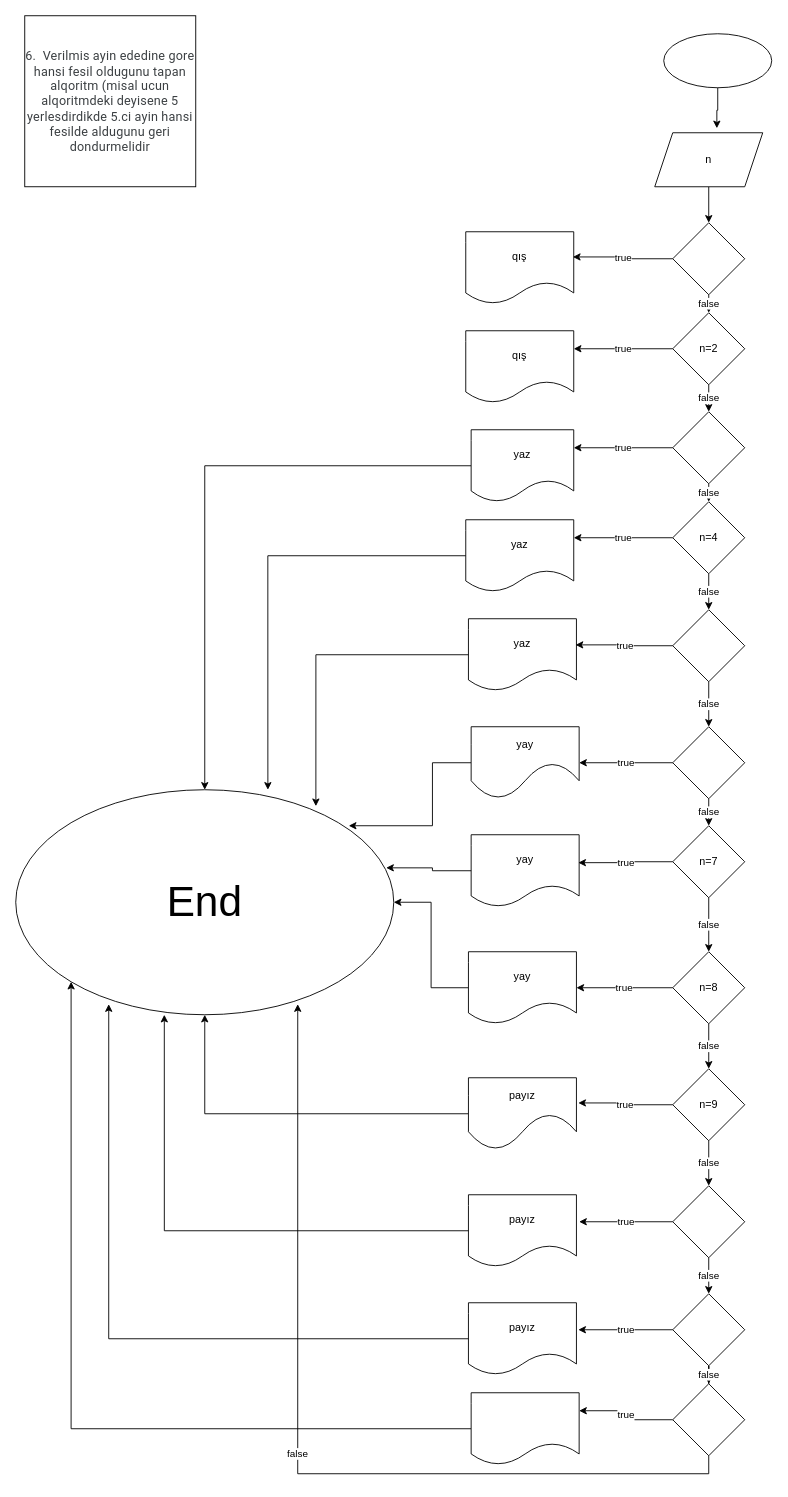
This 788x1497 diagram has some shape labels left out. The shapes that lost their labels are listed below. From the top down, each one's box as (x1, y1, x2, y2) in pixels, then its label:
(663, 33, 772, 88): Start
(672, 222, 745, 295): n=1
(672, 411, 745, 484): n=3
(672, 609, 745, 682): n=5
(672, 726, 745, 799): n=6
(672, 1185, 745, 1258): n=10
(672, 1293, 745, 1366): n=11
(470, 1392, 579, 1465): dış
(672, 1383, 745, 1456): n=12
